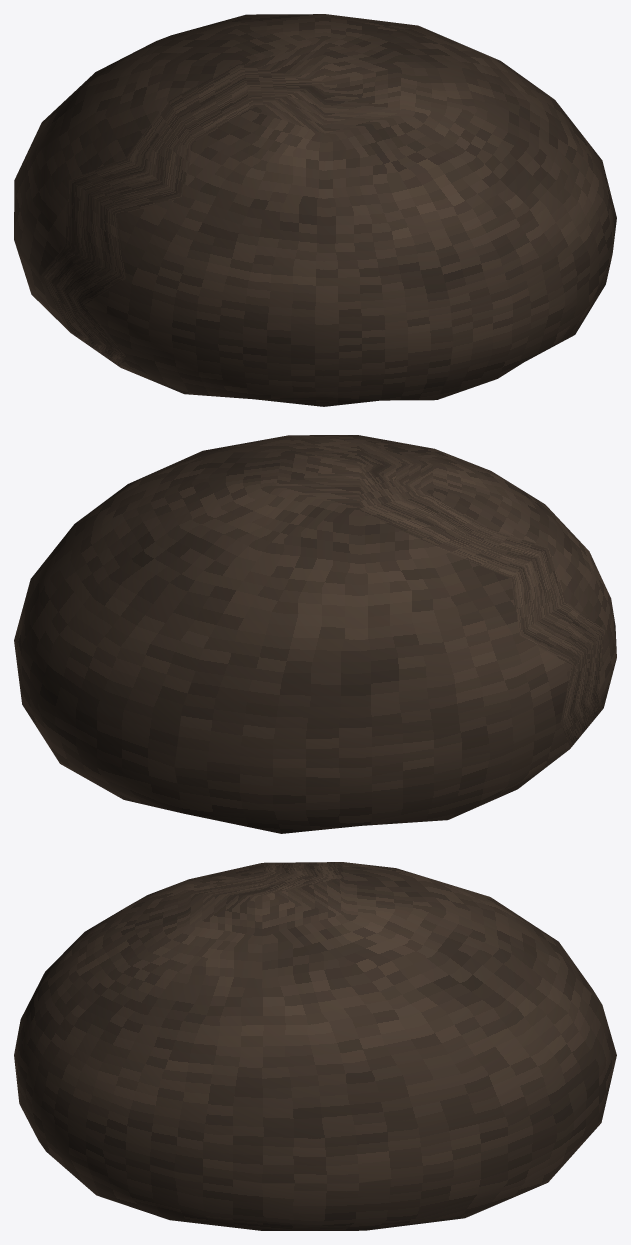
File: stone_4.glb
The picture shows the model from 3 angles, top to bottom: view 1: azimuth 30°, elevation 25°; view 2: azimuth 150°, elevation 25°; view 3: azimuth 270°, elevation 25°; orthographic projection. The views are drawn at different scales.
Visible parts, largest first — view 1: stone_4; view 2: stone_4; view 3: stone_4.
Boxes of the visible parts, box(x1,y1,x2,y2) form: stone_4: box(14, 14, 616, 406); stone_4: box(14, 435, 616, 833); stone_4: box(14, 862, 616, 1230).
Size of the model in its own units: 0.1044 by 0.0459 by 0.1098.
1 material, 1 textured.
